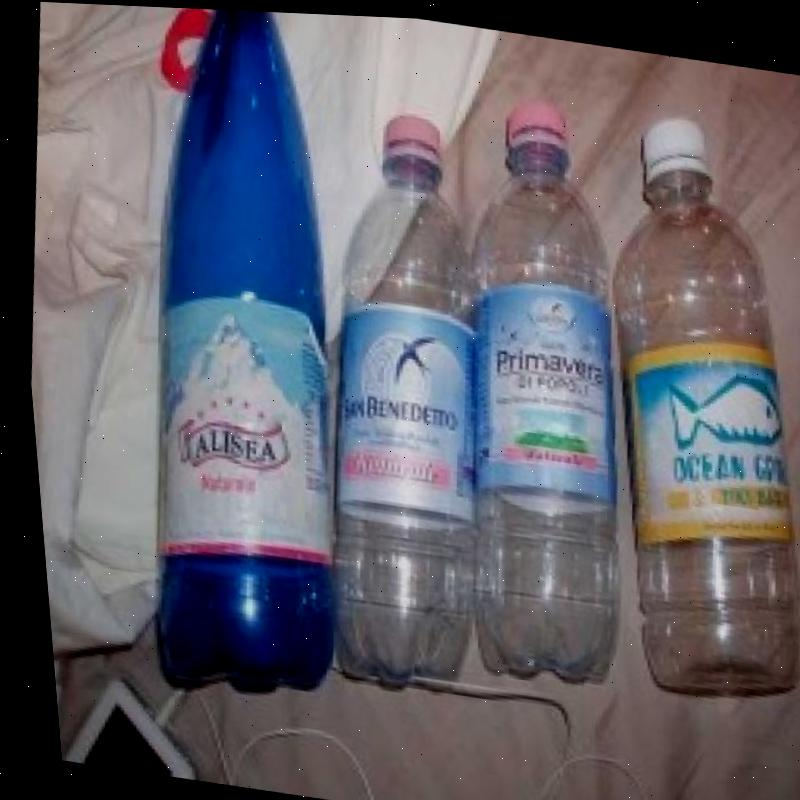botella: (92, 3, 391, 712), (416, 87, 668, 688), (554, 101, 800, 703), (276, 100, 515, 700)
